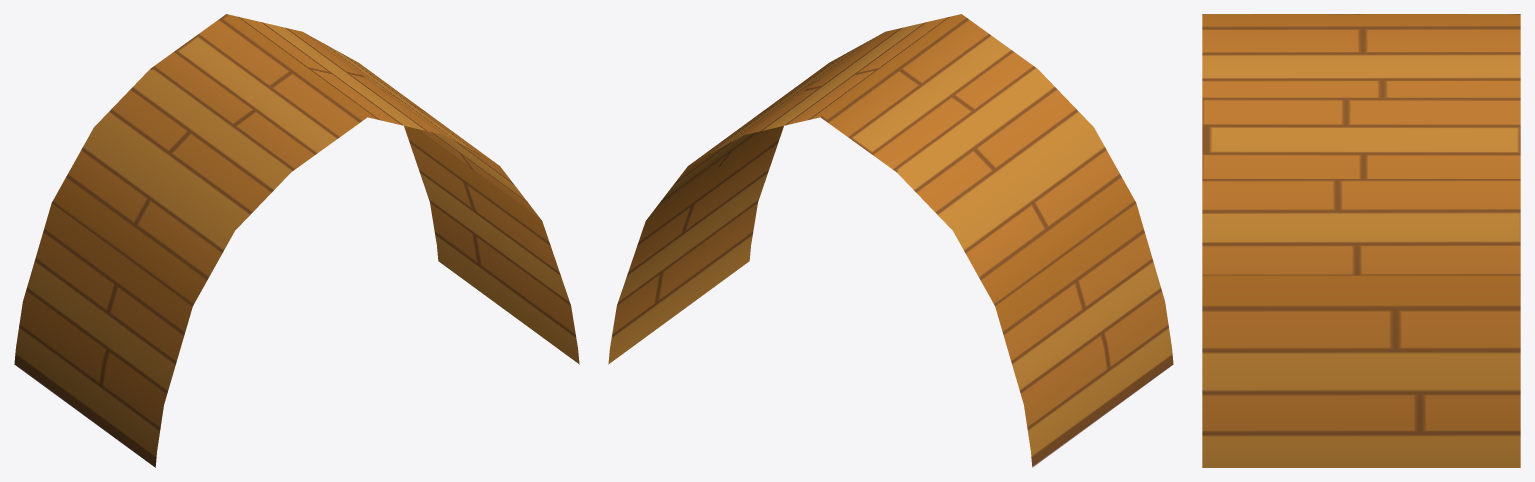
The model's file is Vikings_walls.fbx.
3 renders of one model, left to right at view 1: azimuth 30°, elevation 25°; view 2: azimuth 150°, elevation 25°; view 3: azimuth 270°, elevation 25°, orthographic. The views are drawn at different scales.
Visible parts, largest first — view 1: Cube.003; view 2: Cube.003; view 3: Cube.003.
Part boxes in pixels (left/top/right/bottom): Cube.003: left=14, top=14, right=579, bottom=467; Cube.003: left=608, top=14, right=1173, bottom=467; Cube.003: left=1202, top=14, right=1520, bottom=467.
Size of the model in its own units: 657 by 443 by 379.
